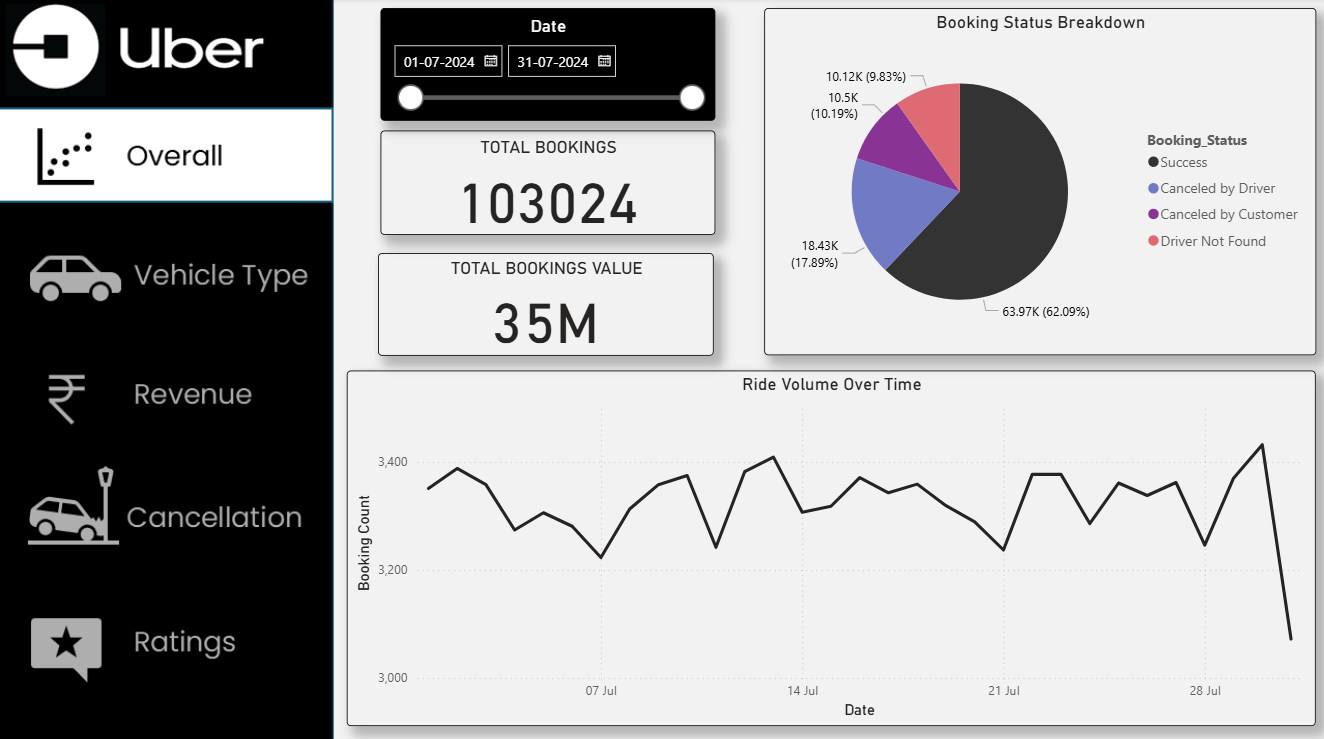

This screenshot's page, from the dashboard's own definition file:
{"tool":"powerbi","page":{"name":"Overall","canvas":[1280,720],"ordinal":0},"visuals":[{"type":"actionButton","box":[0,222,322.1,90.5],"z":0},{"type":"actionButton","box":[0,335.4,322.1,90.5],"z":1000},{"type":"actionButton","box":[0,446.4,322.1,90.5],"z":2000},{"type":"actionButton","box":[0,573.1,322.1,90.5],"z":3000},{"type":"lineChart","title":"Ride Volume Over Time","fields":{"Category":["July.Date"],"Y":["CountNonNull(July.Booking_ID)"]},"box":[336.6,360.1,935.4,343.5],"z":4000},{"type":"pieChart","title":"Booking Status Breakdown","fields":{"Category":["July.Booking_Status"],"Y":["CountNonNull(July.Booking_Status)"]},"box":[739.5,9.7,532.5,335.2],"z":5000},{"type":"slicer","title":"Date","fields":{"Values":["July.Date"]},"box":[369.7,9.7,322.8,109],"z":6000},{"type":"card","title":"TOTAL BOOKINGS","fields":{"Values":["Count(July.Booking_ID)"]},"box":[369.7,128.3,322.8,100.7],"z":7000},{"type":"card","title":"TOTAL BOOKINGS VALUE","fields":{"Values":["Sum(July.Booking_Value)"]},"box":[367,245.6,324.2,99.3],"z":8000}]}

Visuals, with their boxes in screenshot pixels (x1, y1, x2, y2), scaled from the page's 1280x720 canvas onto the 1324x739 screenshot:
actionButton: [x1=0, y1=228, x2=333, y2=321]
actionButton: [x1=0, y1=344, x2=333, y2=437]
actionButton: [x1=0, y1=458, x2=333, y2=551]
actionButton: [x1=0, y1=588, x2=333, y2=681]
"Ride Volume Over Time" lineChart: [x1=348, y1=370, x2=1316, y2=722]
"Booking Status Breakdown" pieChart: [x1=765, y1=10, x2=1316, y2=354]
"Date" slicer: [x1=382, y1=10, x2=716, y2=122]
"TOTAL BOOKINGS" card: [x1=382, y1=132, x2=716, y2=235]
"TOTAL BOOKINGS VALUE" card: [x1=380, y1=252, x2=715, y2=354]
